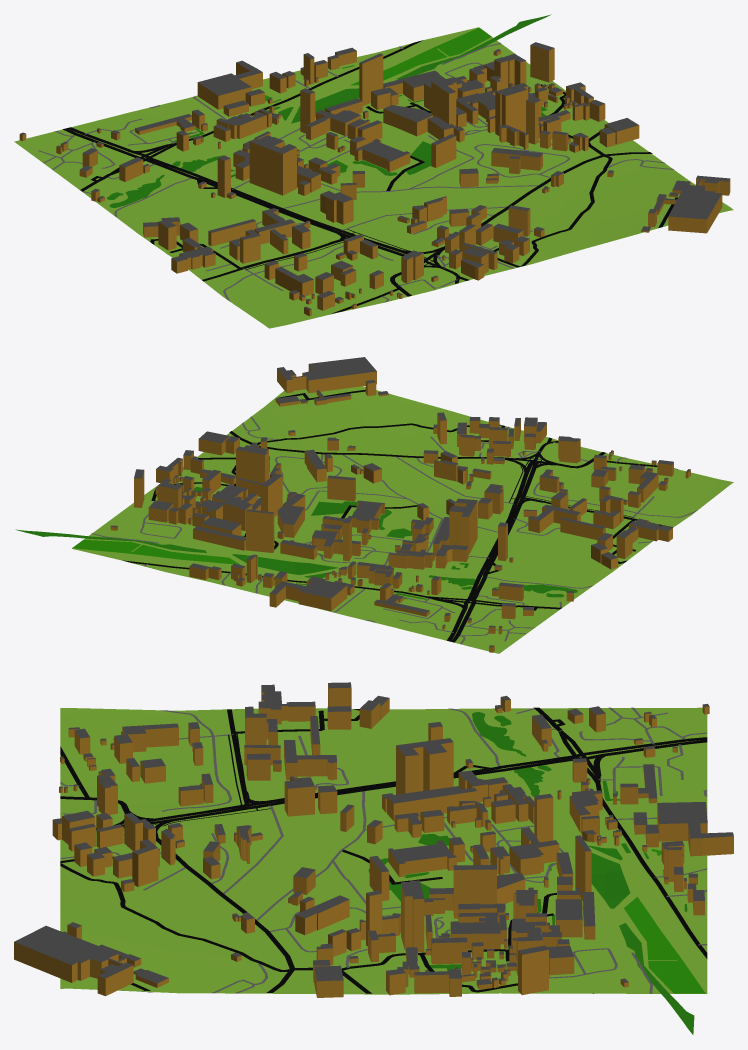
File: tile_01_02.glb
3 views of the same model, one above another, from view 1: azimuth 30°, elevation 25°; view 2: azimuth 150°, elevation 25°; view 3: azimuth 270°, elevation 25° (orthographic). The views are drawn at different scales.
Parts seen in each view (by area): view 1: Terrain_01_02, Ub_small.osm_buildings_01_02, Ub_small.osm_roads_service_01_02, Ub_small.osm_forest_01_02, Ub_small.osm_roads_primary_01_02, Ub_small.osm_vegetation_01_02, Ub_small.osm_roads_residential_01_02, Ub_small.osm_roads_tertiary_01_02, Ub_small.osm_roads_secondary_01_02; view 2: Terrain_01_02, Ub_small.osm_buildings_01_02, Ub_small.osm_roads_service_01_02, Ub_small.osm_forest_01_02, Ub_small.osm_roads_primary_01_02, Ub_small.osm_vegetation_01_02, Ub_small.osm_roads_residential_01_02, Ub_small.osm_roads_tertiary_01_02, Ub_small.osm_roads_secondary_01_02; view 3: Terrain_01_02, Ub_small.osm_buildings_01_02, Ub_small.osm_roads_service_01_02, Ub_small.osm_forest_01_02, Ub_small.osm_roads_primary_01_02, Ub_small.osm_vegetation_01_02, Ub_small.osm_roads_residential_01_02, Ub_small.osm_roads_tertiary_01_02, Ub_small.osm_roads_secondary_01_02.
Boxes of the visible parts, x1,y1,x2,y2 form: Terrain_01_02: (14, 27, 733, 328); Ub_small.osm_buildings_01_02: (19, 42, 730, 316); Ub_small.osm_roads_service_01_02: (38, 43, 673, 302); Ub_small.osm_forest_01_02: (107, 14, 551, 207); Ub_small.osm_roads_primary_01_02: (63, 127, 426, 296); Ub_small.osm_vegetation_01_02: (265, 27, 491, 101); Ub_small.osm_roads_residential_01_02: (90, 84, 612, 280); Ub_small.osm_roads_tertiary_01_02: (109, 40, 459, 283); Ub_small.osm_roads_secondary_01_02: (80, 128, 652, 260); Terrain_01_02: (72, 386, 733, 653); Ub_small.osm_buildings_01_02: (110, 357, 690, 652); Ub_small.osm_roads_service_01_02: (91, 398, 697, 644); Ub_small.osm_forest_01_02: (15, 486, 577, 599); Ub_small.osm_roads_primary_01_02: (435, 452, 605, 642); Ub_small.osm_vegetation_01_02: (72, 539, 240, 564); Ub_small.osm_roads_residential_01_02: (151, 423, 635, 610); Ub_small.osm_roads_tertiary_01_02: (122, 441, 672, 607); Ub_small.osm_roads_secondary_01_02: (198, 431, 561, 609); Terrain_01_02: (60, 707, 707, 994); Ub_small.osm_buildings_01_02: (14, 682, 733, 997); Ub_small.osm_roads_service_01_02: (60, 707, 707, 993); Ub_small.osm_forest_01_02: (368, 712, 694, 1034); Ub_small.osm_roads_primary_01_02: (60, 737, 707, 824); Ub_small.osm_vegetation_01_02: (624, 849, 705, 993); Ub_small.osm_roads_residential_01_02: (60, 709, 593, 993); Ub_small.osm_roads_tertiary_01_02: (96, 709, 707, 958); Ub_small.osm_roads_secondary_01_02: (155, 707, 562, 993).
Size of the model in its own units: 1149 by 94.39 by 1035.
